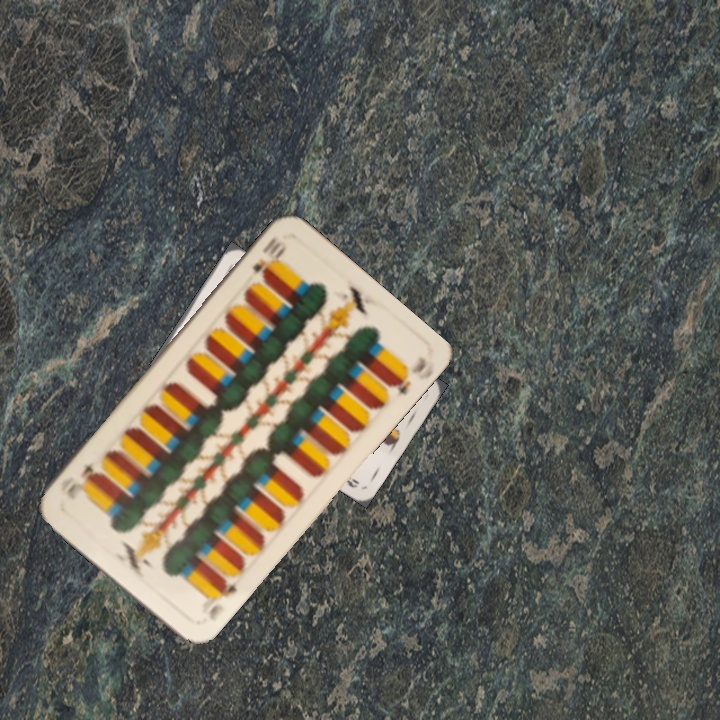E10: (248, 233, 289, 282), (204, 574, 240, 624)
